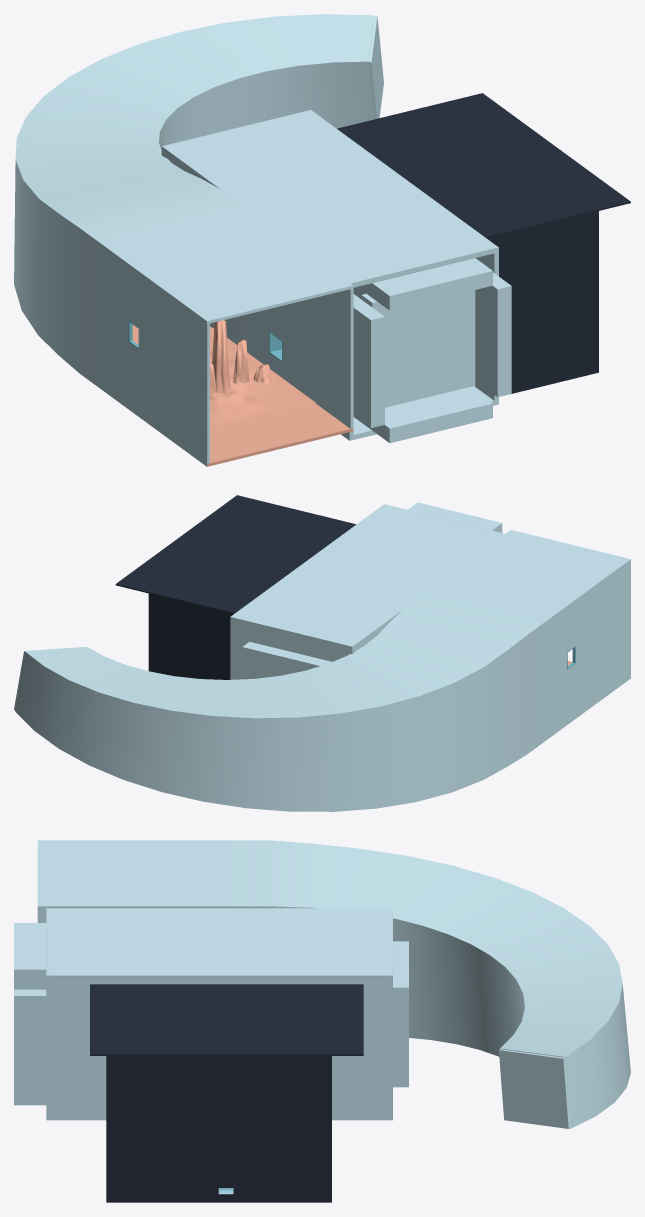
The picture shows the model from 3 angles, top to bottom: view 1: azimuth 30°, elevation 25°; view 2: azimuth 150°, elevation 25°; view 3: azimuth 270°, elevation 25°; orthographic projection. The views are drawn at different scales.
Visible parts, largest first — view 1: 06_wall, 04_wall_out, 05_box_top, 05_Box, 04_wall_front, 04_wall_left, 04_wall_bottom, 06_rock_ground, 04_wall_right, 04_wall_top, 06_rock; view 2: 06_wall, 04_wall_out, 05_box_top, 05_Box, 04_wall_back, 04_wall_top; view 3: 06_wall, 04_wall_out, 05_Box, 05_box_top, 04_wall_left, 04_wall_back, 04_wall_top.
Part boxes in pixels (x1,y1,x2,y2): 06_wall: [14, 14, 383, 466]; 04_wall_out: [161, 110, 498, 440]; 05_box_top: [337, 93, 630, 238]; 05_Box: [487, 211, 598, 393]; 04_wall_front: [361, 290, 475, 407]; 04_wall_left: [353, 272, 511, 397]; 04_wall_bottom: [353, 387, 492, 443]; 06_rock_ground: [210, 327, 315, 428]; 04_wall_right: [353, 294, 384, 428]; 04_wall_top: [357, 258, 492, 310]; 06_rock: [210, 320, 273, 397]; 06_wall: [14, 530, 630, 811]; 04_wall_out: [230, 504, 505, 679]; 05_box_top: [115, 495, 355, 613]; 05_Box: [148, 593, 233, 679]; 04_wall_back: [242, 641, 331, 679]; 04_wall_top: [408, 502, 502, 532]; 06_wall: [37, 840, 630, 1128]; 04_wall_out: [46, 908, 392, 1120]; 05_Box: [106, 1056, 331, 1202]; 05_box_top: [90, 984, 363, 1055]; 04_wall_left: [14, 989, 46, 1095]; 04_wall_back: [393, 941, 408, 1087]; 04_wall_top: [14, 923, 46, 982].
Bounding box in the file's own units: 4958 × 1867 × 6178.
Materials: 19 (19 with a texture image).
